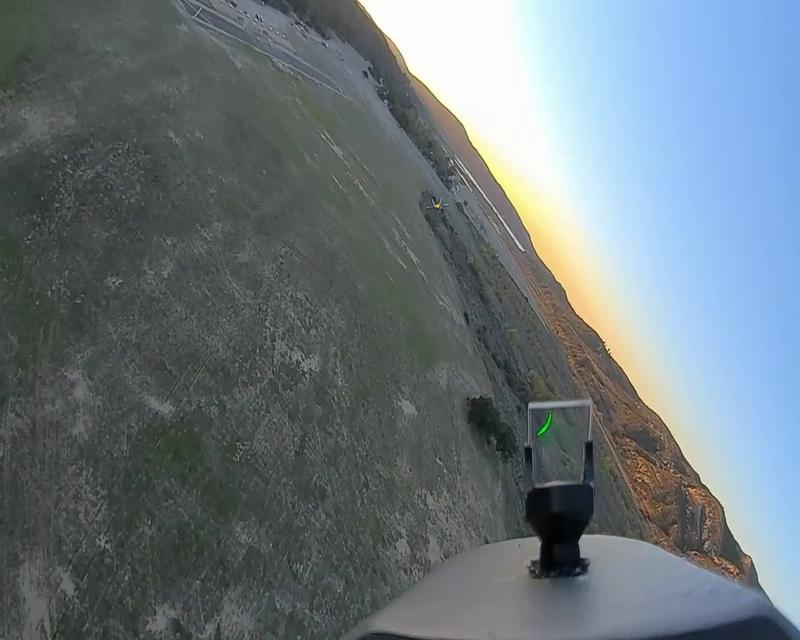UAV: (425, 196, 449, 212)
